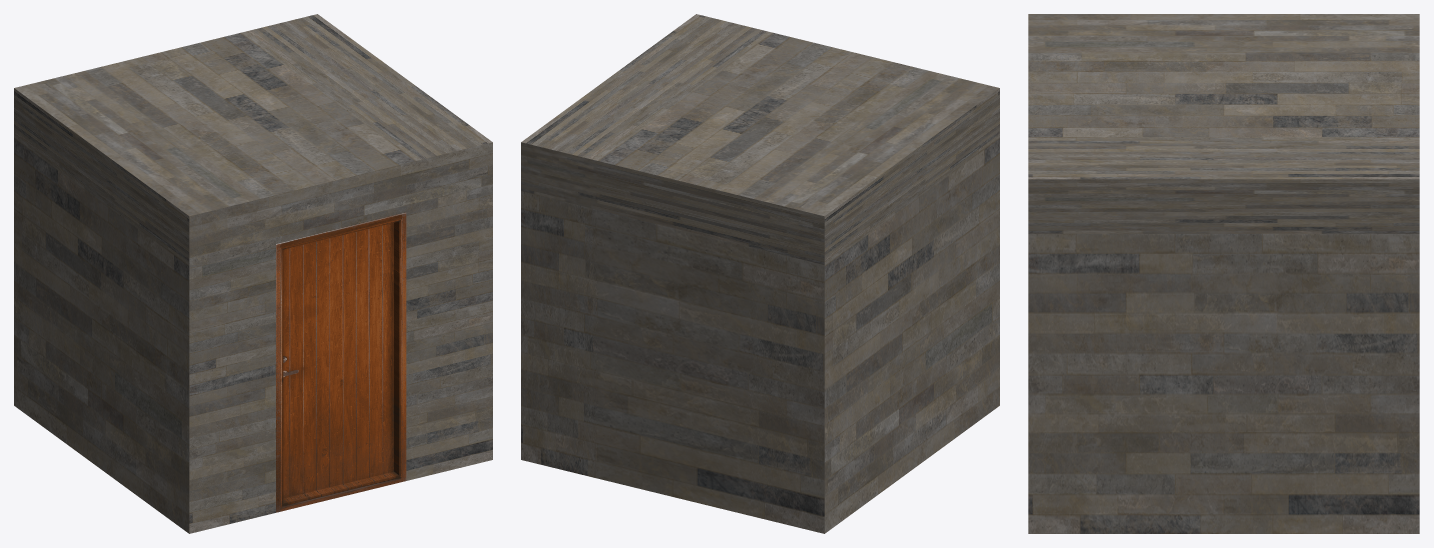
File: single_door.fbx
The picture shows the model from 3 angles, left to right: view 1: azimuth 30°, elevation 25°; view 2: azimuth 150°, elevation 25°; view 3: azimuth 270°, elevation 25°; orthographic projection. The views are drawn at different scales.
Visible parts, largest first — view 1: Cube.015; view 2: Cube.015; view 3: Cube.015.
Part boxes in pixels (x1,y1,x2,y2): Cube.015: [14, 14, 492, 533]; Cube.015: [521, 14, 999, 533]; Cube.015: [1028, 14, 1419, 533].
Size of the model in its own units: 200 by 200 by 200.
